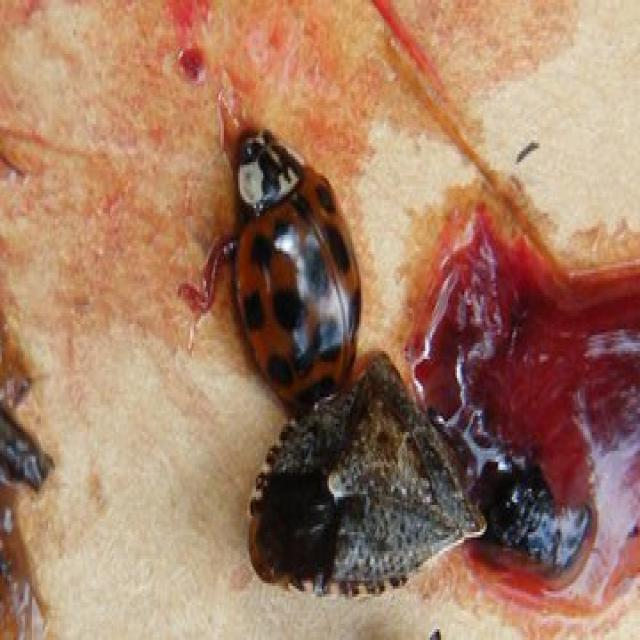ladybug: (226, 130, 359, 402)
